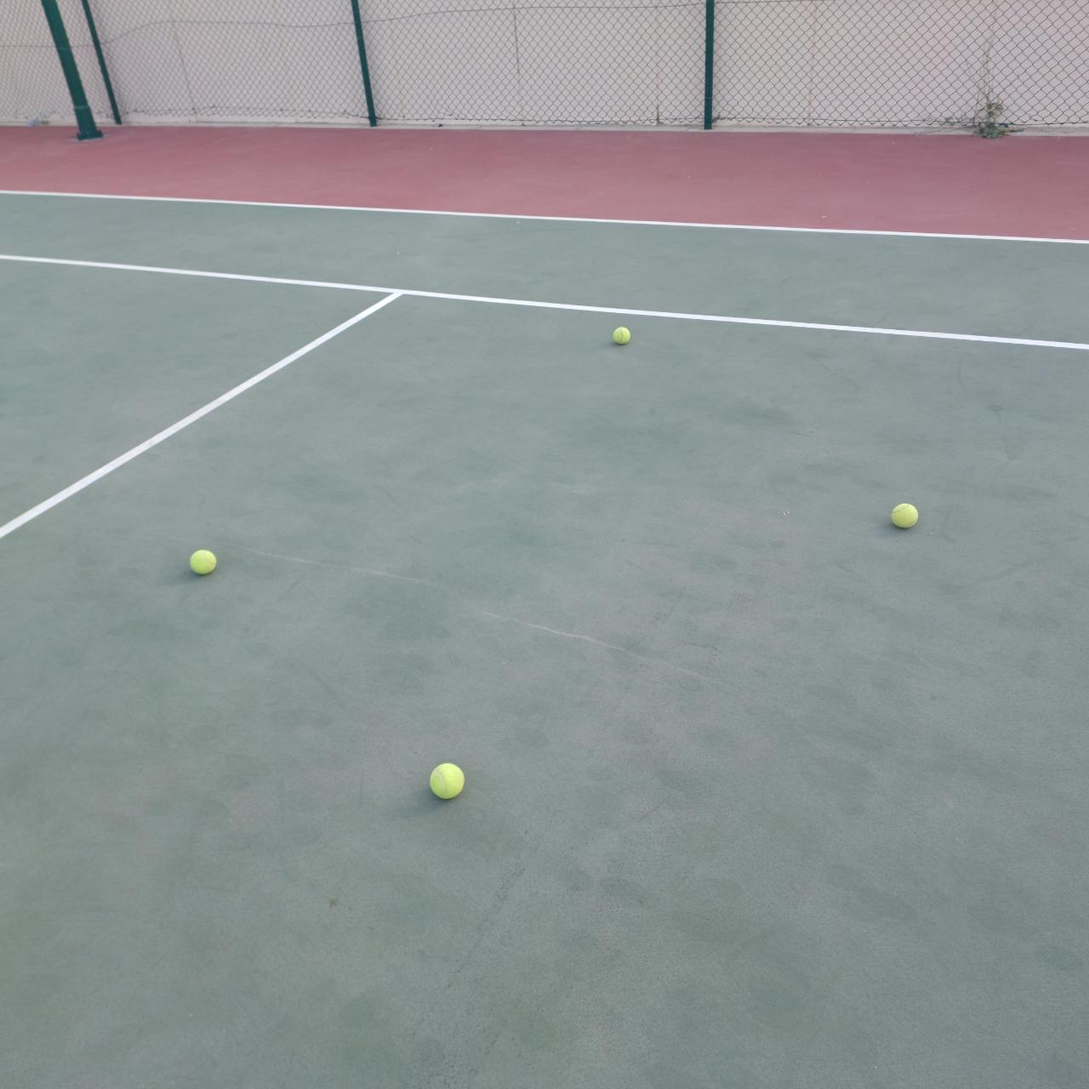tennis-ball: (427, 760, 465, 800), (187, 546, 217, 575), (889, 500, 919, 528), (611, 324, 630, 345)
